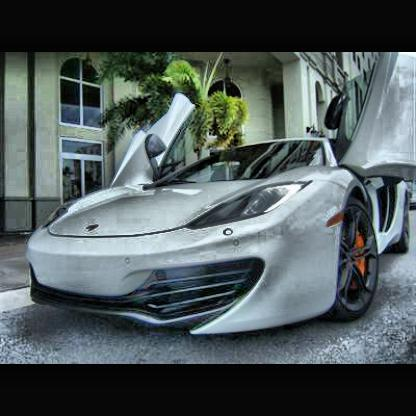McLaren MP4-12C Coupe 2012: (26, 95, 414, 339)
